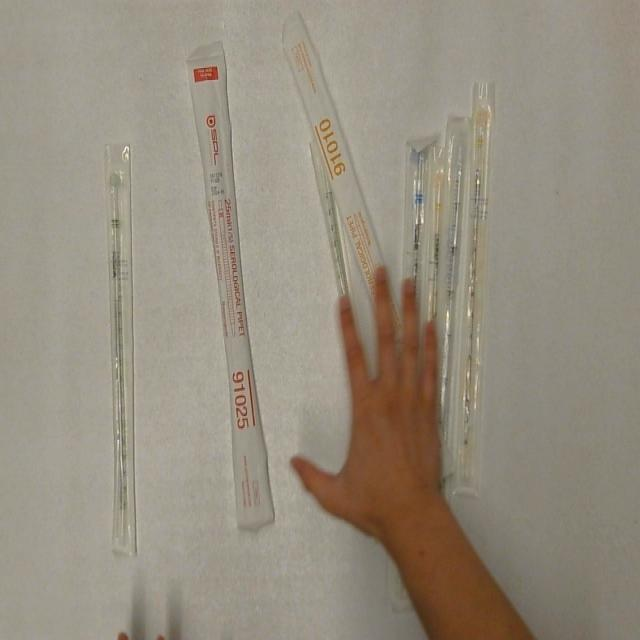Serelogical Pipet 1 mL: (454, 85, 496, 498), (425, 150, 448, 328)
Serelogical Pipet 10 mL: (280, 7, 406, 350)
Serelogical Pipet 2 mL: (106, 141, 137, 561)
Serelogical Pipet 25 mL: (185, 52, 278, 534)
Serelogical Pipet 5 mL: (442, 114, 472, 440), (403, 134, 438, 286)
